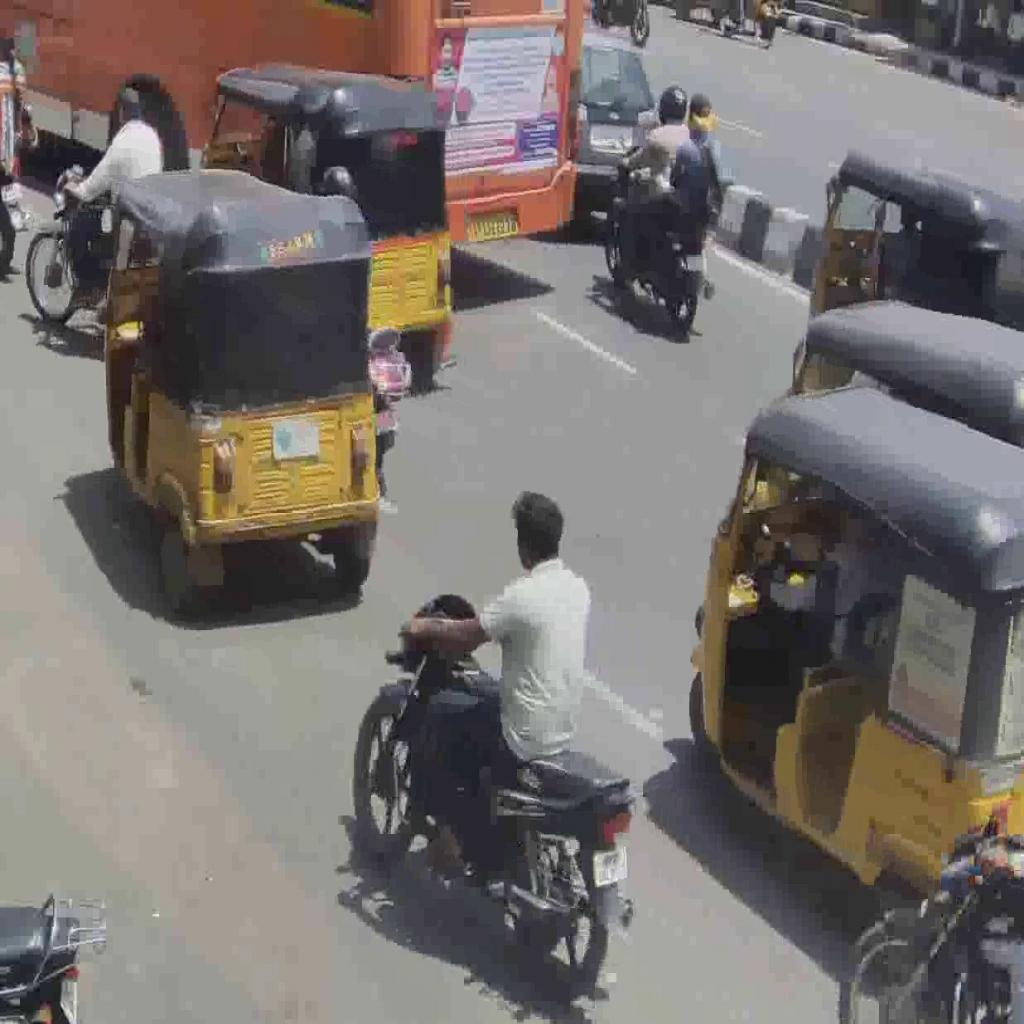helmet: (355, 597, 646, 994)
